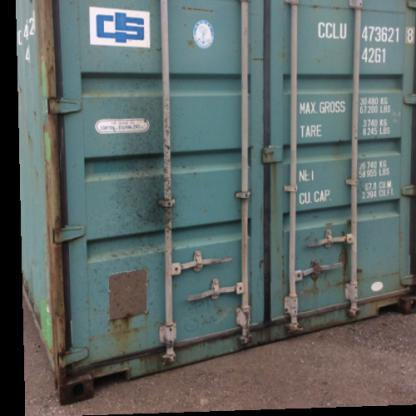Damage: (115, 74, 187, 226), (282, 238, 354, 292), (172, 284, 230, 330), (241, 312, 312, 342)
